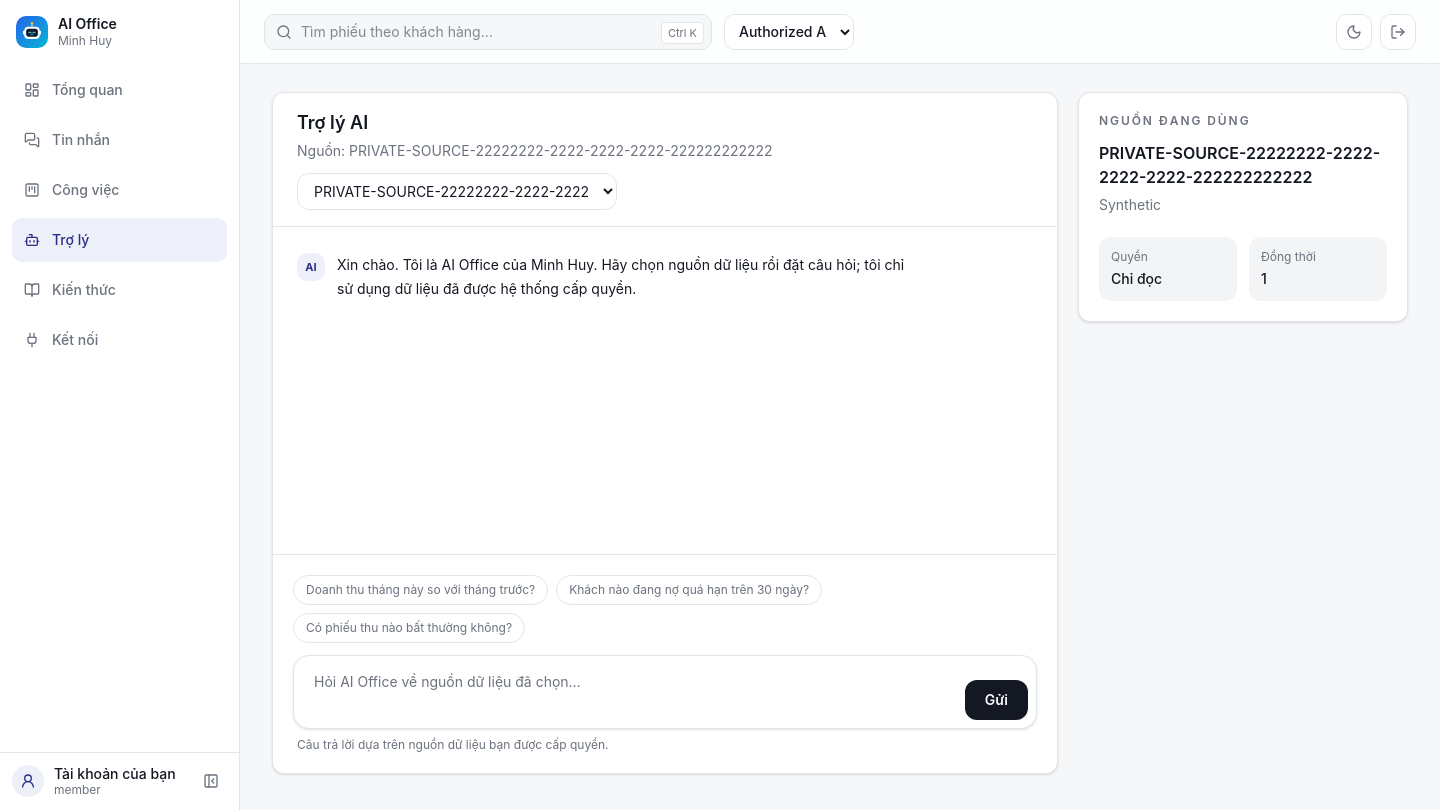
it: restores fresh verified context after start denial without returning the old private draft or upstream diagnostics
Type "PRIVATE-OLD-DRAFT" into the text box with placeholder "Hỏi AI Office về nguồn dữ liệu đã chọn…".
click(627, 692); type("PRIVATE-OLD-DRAFT")  # box [302,664,953,720]
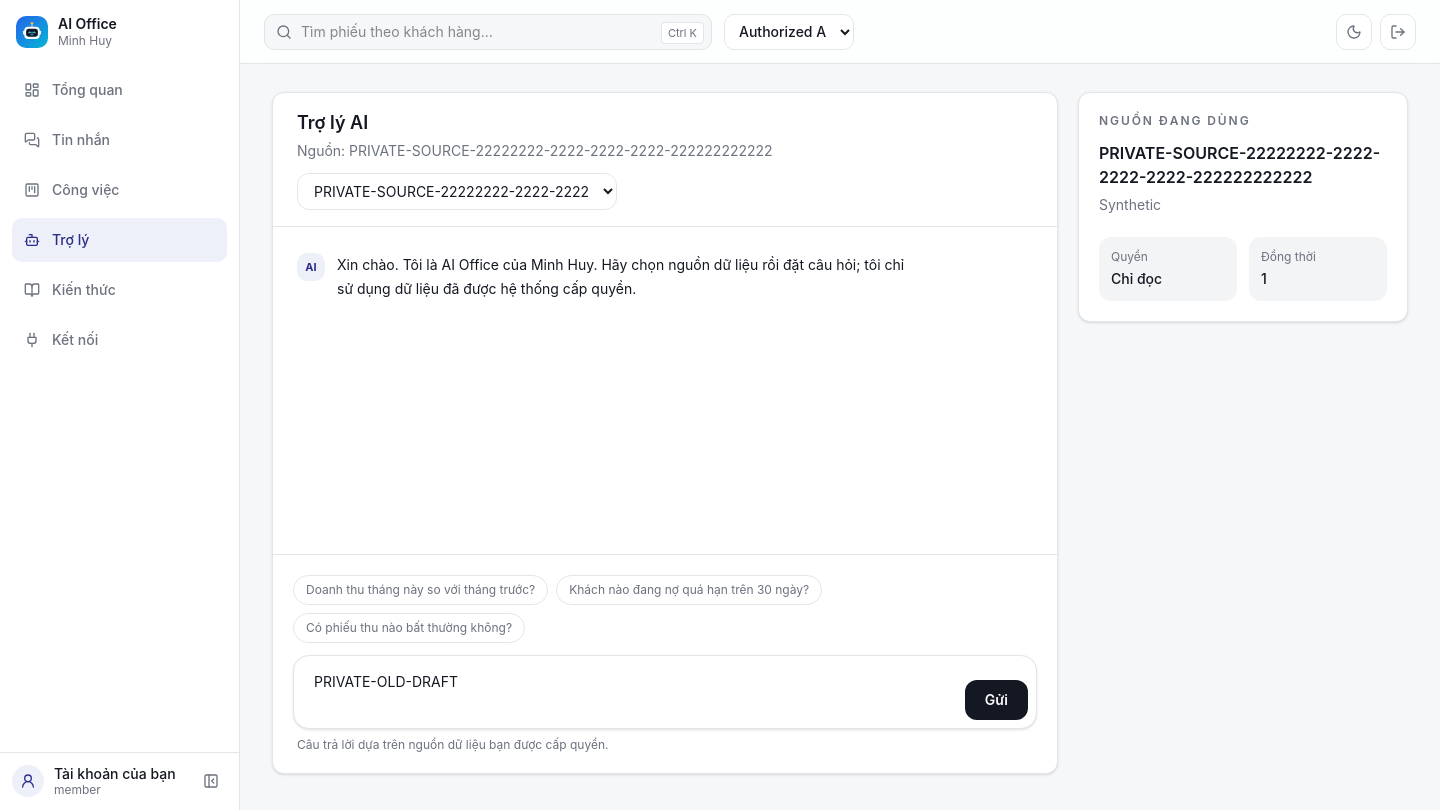
Select "Authorized B" in the dropdown named "Chuyển công ty" at (789, 32), box [724,14,854,50]
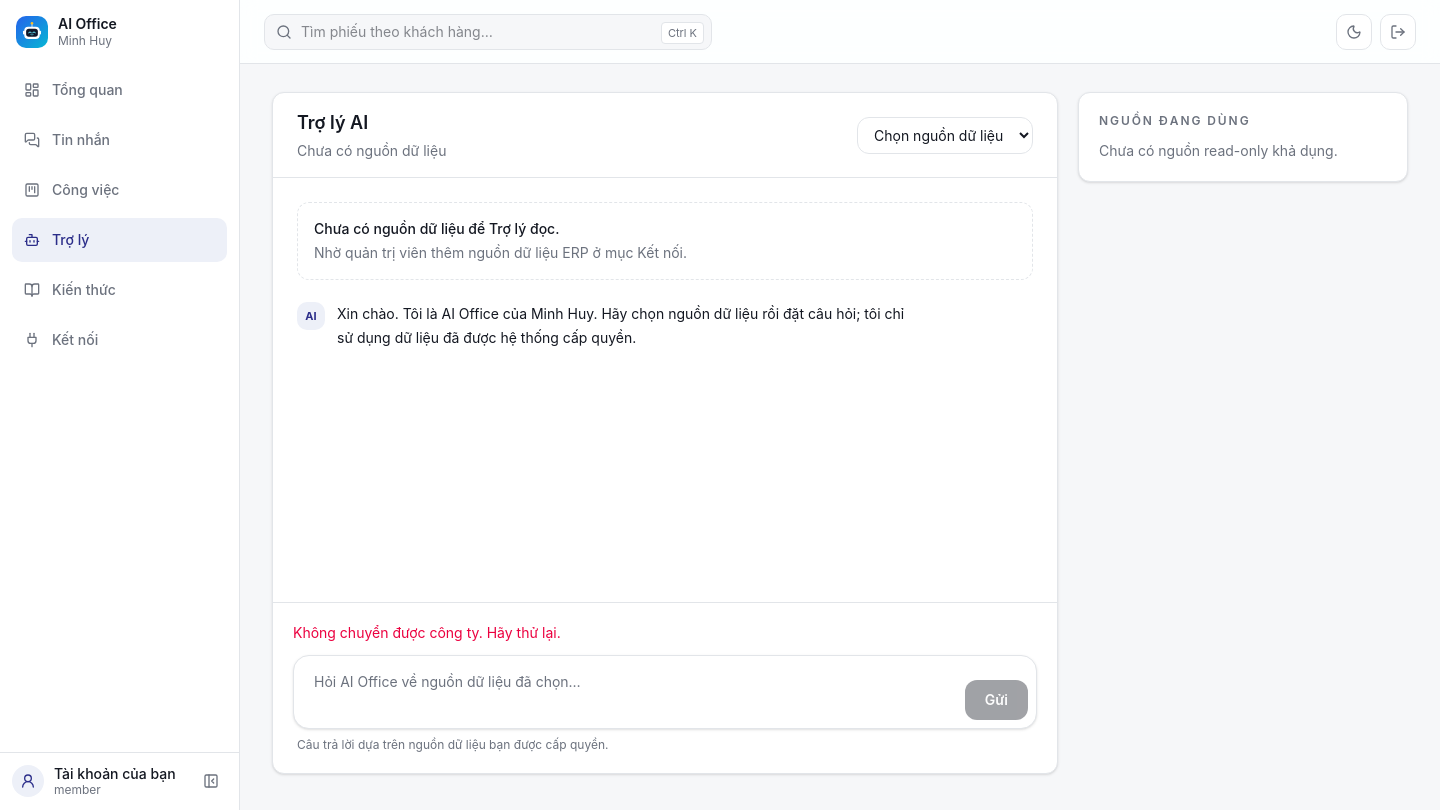
Expected: the text "Không chuyển được công ty. Hãy thử lại." is shown, [293,624,561,641]
Expected: the text box with placeholder "Hỏi AI Office về nguồn dữ liệu đã chọn…" is empty, [302,664,953,720]
